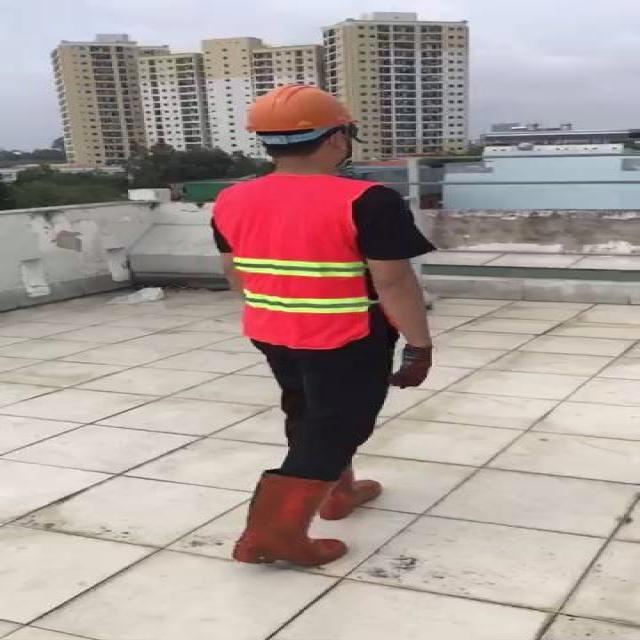boots: (234, 473, 348, 566), (322, 470, 380, 523)
hand_glove: (388, 347, 436, 388)
head_helmet: (240, 81, 363, 138)
person: (199, 72, 439, 570)
vest: (212, 175, 370, 349)
